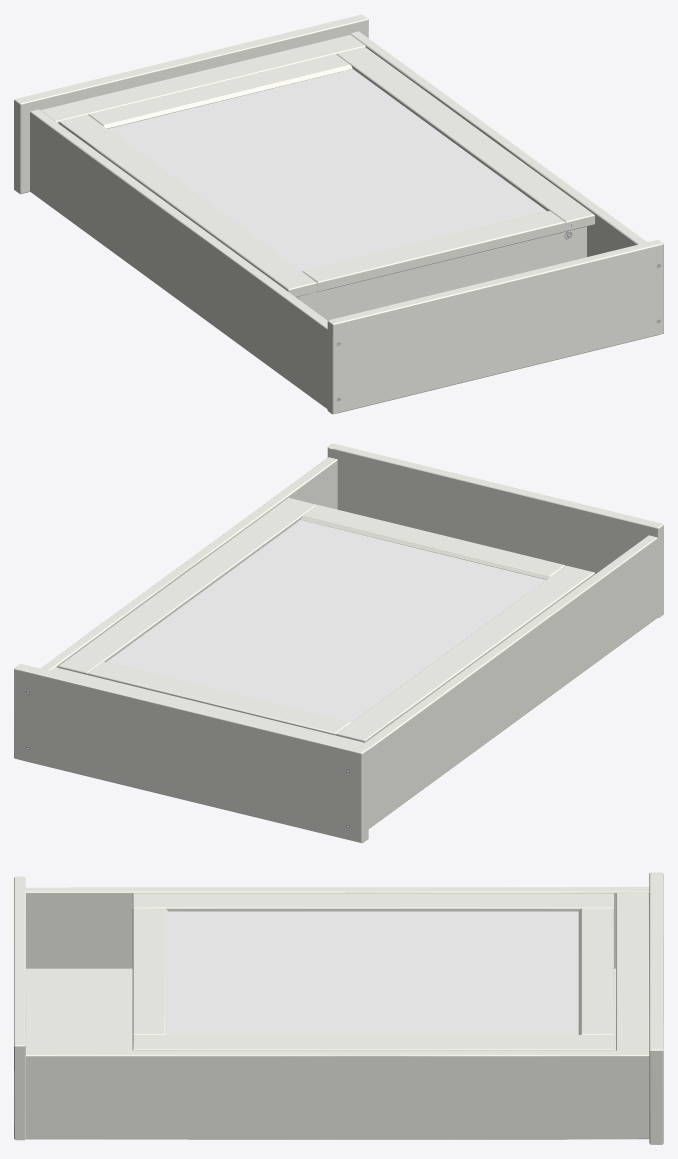
The model's file is hemnes_szafka_z_lustrem_i_drzwiami_70217671.glb.
3 renders of one model, top to bottom at view 1: azimuth 30°, elevation 25°; view 2: azimuth 150°, elevation 25°; view 3: azimuth 270°, elevation 25°, orthographic. The views are drawn at different scales.
Parts seen in each view (by area): view 1: hemnes_szafka_z_lustrem_i_drzwiami_70217671; view 2: hemnes_szafka_z_lustrem_i_drzwiami_70217671; view 3: hemnes_szafka_z_lustrem_i_drzwiami_70217671.
Part boxes in pixels (left/top/right/bottom): hemnes_szafka_z_lustrem_i_drzwiami_70217671: left=14, top=14, right=663, bottom=414; hemnes_szafka_z_lustrem_i_drzwiami_70217671: left=14, top=443, right=663, bottom=843; hemnes_szafka_z_lustrem_i_drzwiami_70217671: left=14, top=872, right=663, bottom=1144.
Bounding box in the file's own units: 0.631 × 0.157 × 0.974.
Materials: 2 (2 with a texture image).
